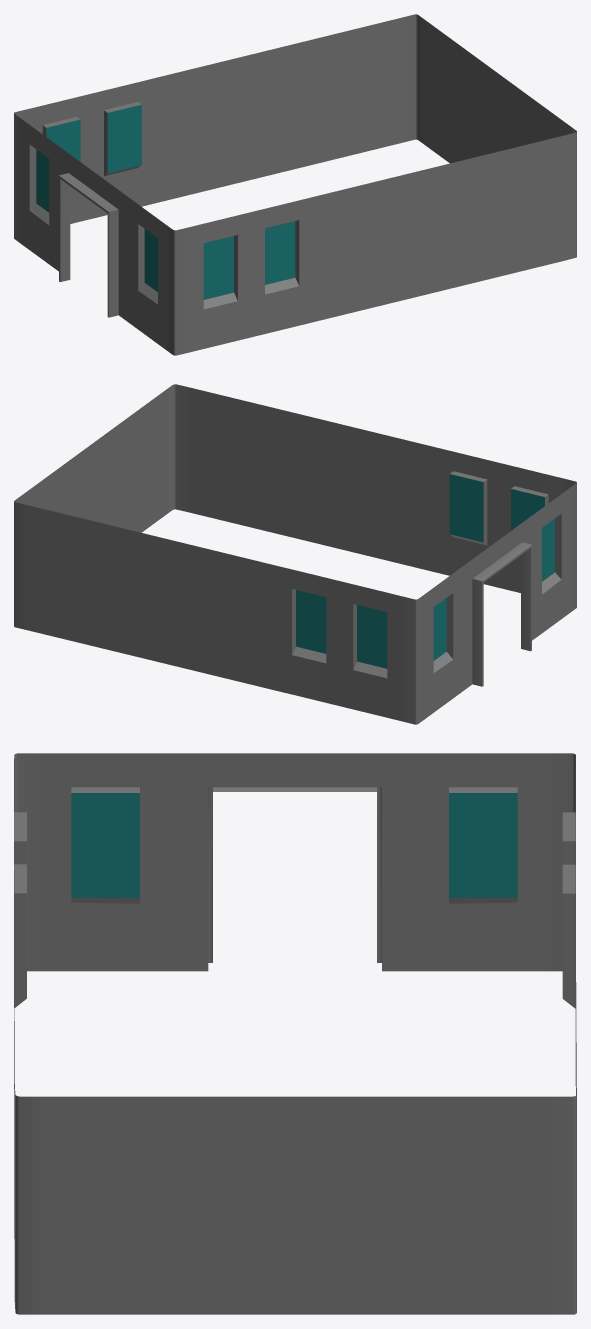
Rendered from RDC.fbx.
3 views of the same model, one above another, from view 1: azimuth 30°, elevation 25°; view 2: azimuth 150°, elevation 25°; view 3: azimuth 270°, elevation 25° (orthographic). The views are drawn at different scales.
Parts seen in each view (by area): view 1: Rdc; view 2: Rdc; view 3: Rdc.
Part boxes in pixels (x1,y1,x2,y2): Rdc: (14,14,576,355); Rdc: (14,384,576,724); Rdc: (14,753,576,1314).
Bounding box in the file's own units: 327 × 94.49 × 221.
